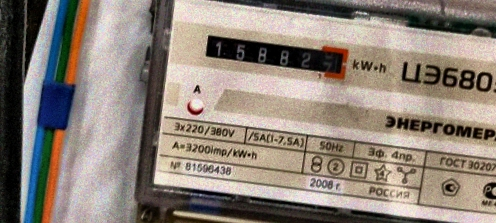1: (211, 37, 224, 57)
2: (298, 49, 312, 69)
5: (233, 42, 246, 60)
7: (320, 60, 333, 72)
8: (254, 44, 268, 63), (276, 47, 290, 66)
screen: (195, 22, 354, 87)
